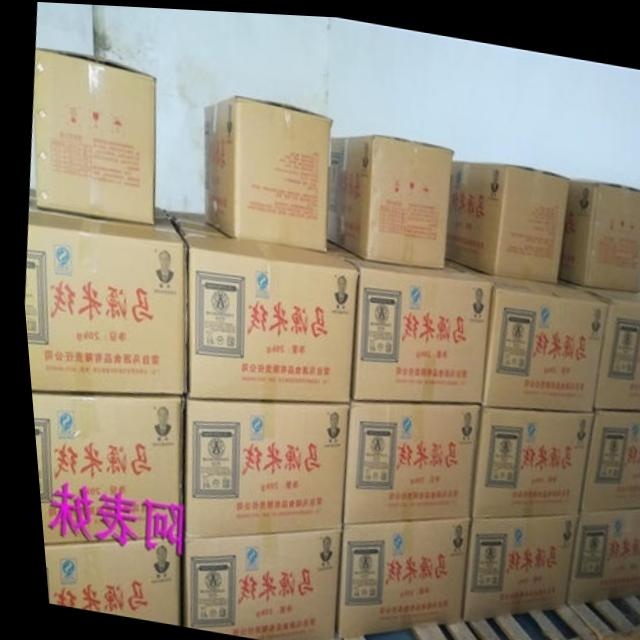box: (162, 208, 353, 400), (19, 186, 183, 392), (323, 237, 487, 399), (441, 252, 604, 405), (173, 396, 342, 536), (25, 392, 178, 544), (31, 46, 155, 222), (200, 91, 331, 247), (172, 527, 330, 640), (335, 397, 474, 521), (323, 130, 451, 264), (326, 513, 462, 638), (441, 155, 567, 277), (462, 400, 587, 513), (450, 506, 571, 618), (35, 535, 172, 624), (559, 275, 640, 402), (554, 171, 640, 284), (556, 501, 640, 601), (572, 404, 640, 507)
